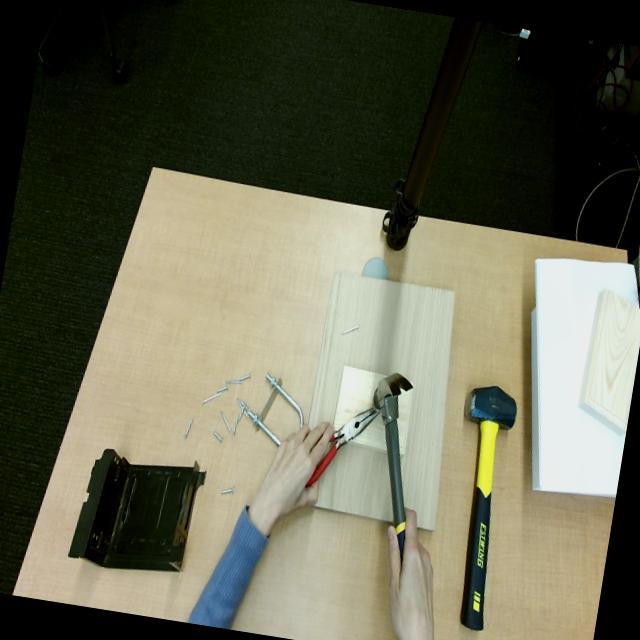hammer: (460, 386, 517, 631), (374, 374, 411, 558)
pliers: (306, 407, 380, 487)
